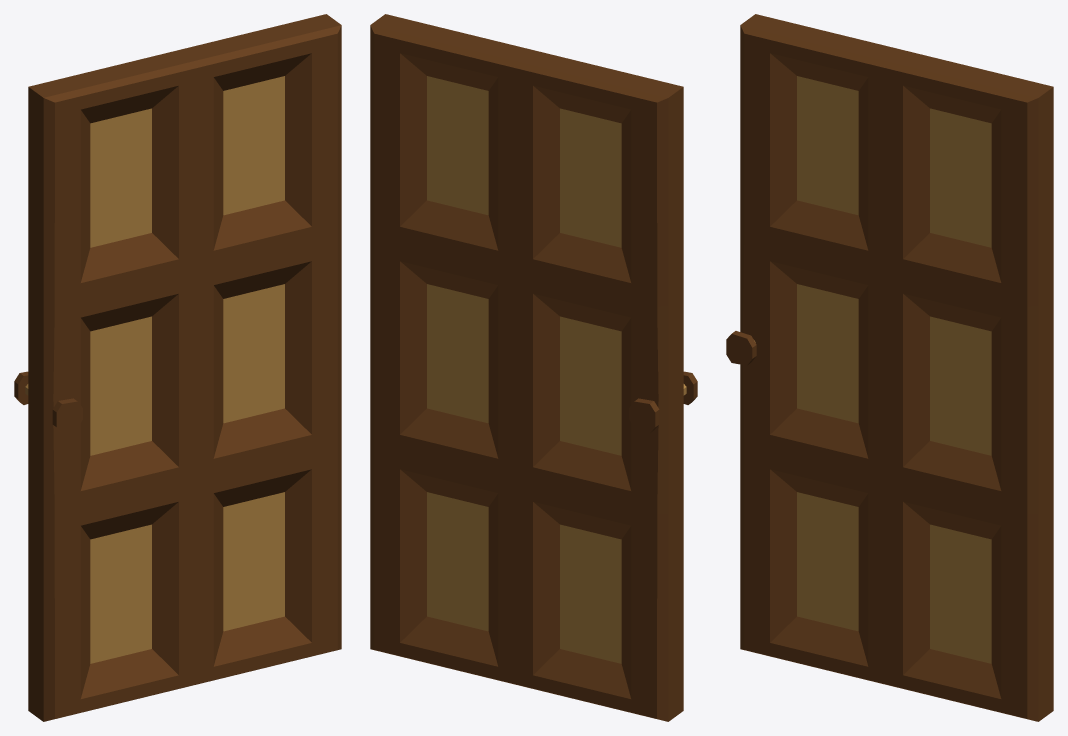
Rendered from Door.fbx.
The picture shows the model from 3 angles, left to right: view 1: azimuth 30°, elevation 25°; view 2: azimuth 150°, elevation 25°; view 3: azimuth 330°, elevation 25°; orthographic projection.
Visible parts, largest first — view 1: Door; view 2: Door; view 3: Door.
Part boxes in pixels (<box>): Door: <box>14,14,341,721</box>; Door: <box>370,14,697,721</box>; Door: <box>726,14,1053,721</box>.
Size of the model in its own units: 200 by 400 by 49.4.
